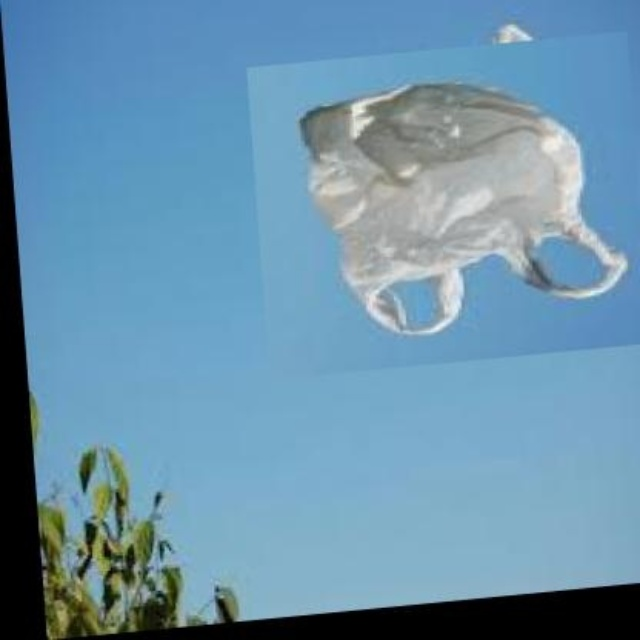trash: (300, 83, 626, 334)
